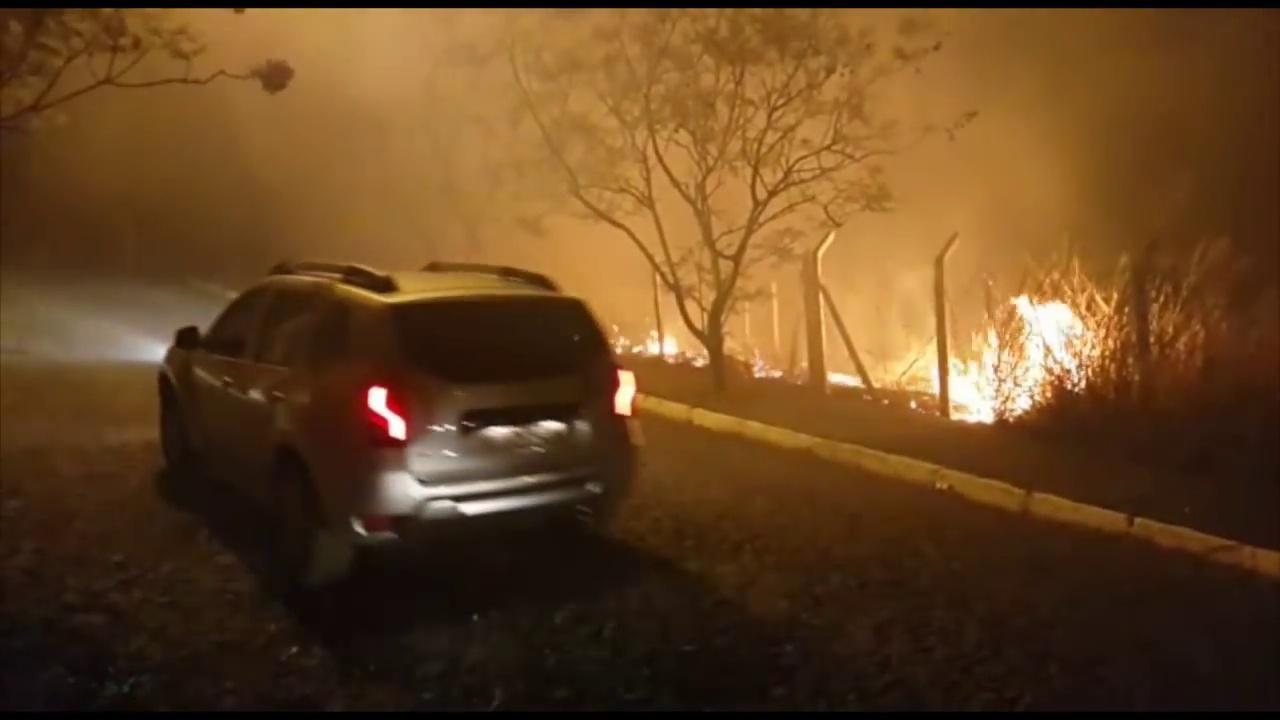Fire: (913, 289, 1101, 424), (630, 326, 676, 363), (827, 371, 870, 392)
